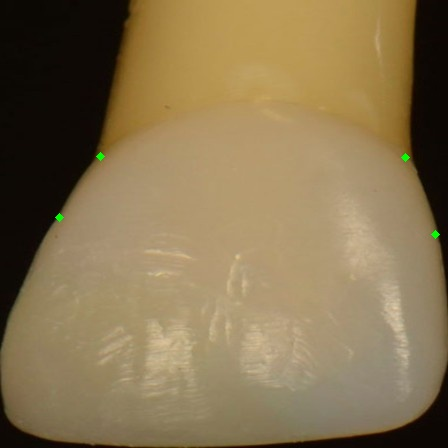coin_1: (100, 156, 120, 176)
coin_2: (59, 217, 79, 237)
coin_3: (405, 157, 425, 177)
coin_4: (435, 234, 448, 254)
